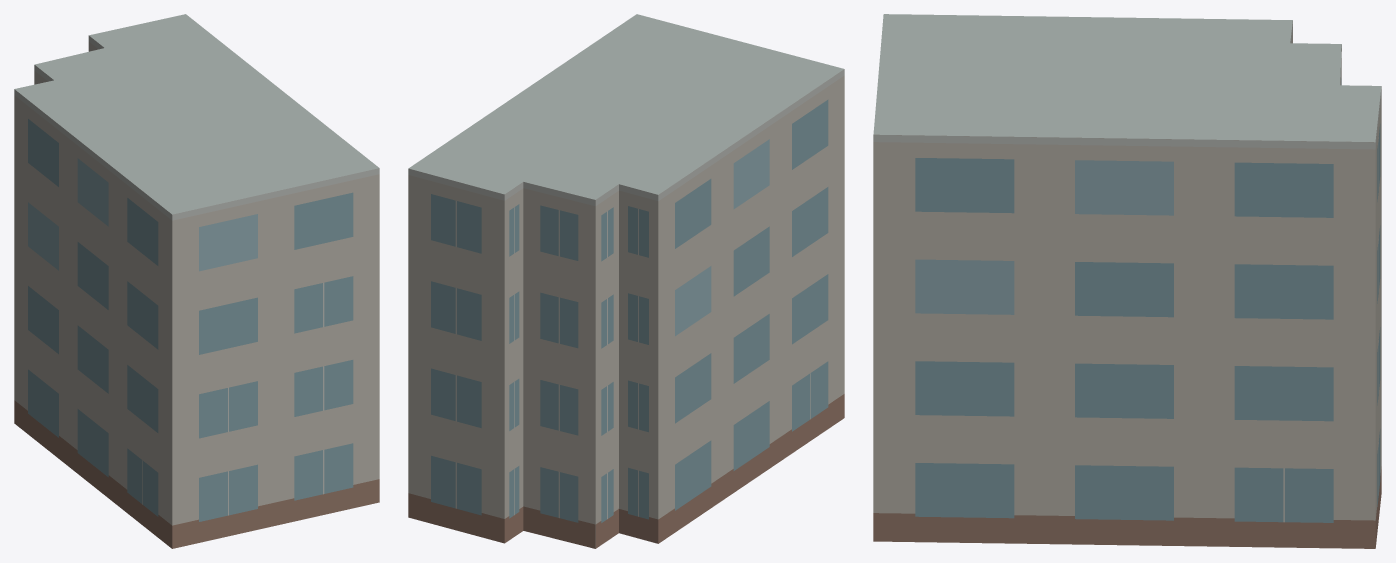
File: survey-upis-32937581.glb
3 renders of one model, left to right at view 1: azimuth 30°, elevation 25°; view 2: azimuth 150°, elevation 25°; view 3: azimuth 270°, elevation 25°, orthographic. The views are drawn at different scales.
Visible parts, largest first — view 1: survey-upis-32937581.tmp; view 2: survey-upis-32937581.tmp; view 3: survey-upis-32937581.tmp.
Part boxes in pixels (<box>): survey-upis-32937581.tmp: <box>14,14,379,548</box>; survey-upis-32937581.tmp: <box>408,14,844,548</box>; survey-upis-32937581.tmp: <box>873,14,1381,548</box>.
Bounding box in the file's own units: 9.09 × 13.44 × 15.23.
